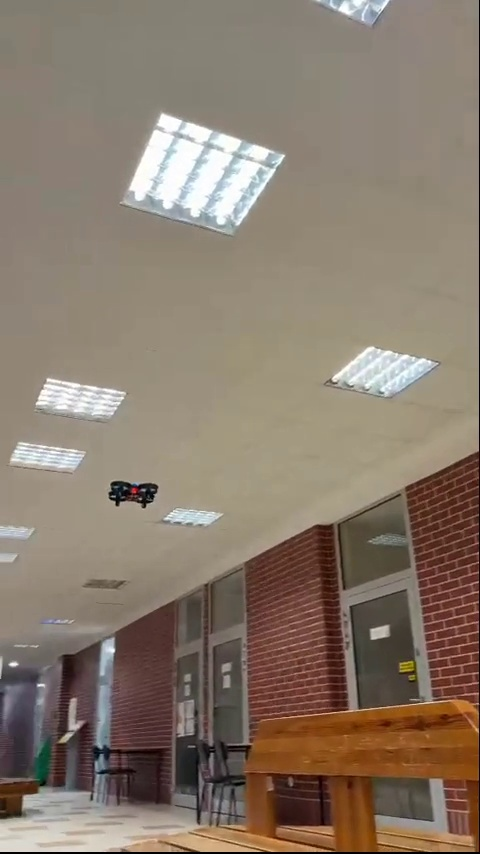drone: (106, 476, 162, 508)
